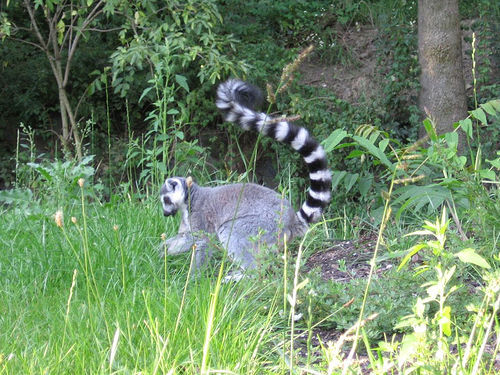cat: (152, 77, 336, 287)
